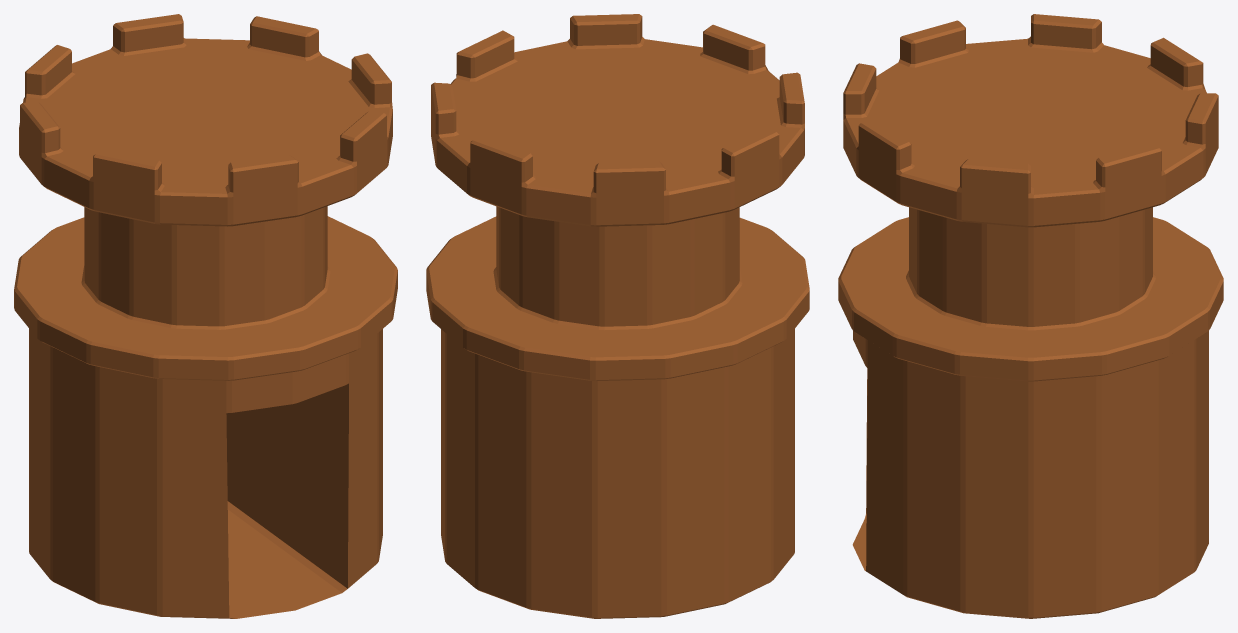
Rendered from castle.fbx.
3 renders of one model, left to right at view 1: azimuth 30°, elevation 25°; view 2: azimuth 150°, elevation 25°; view 3: azimuth 270°, elevation 25°, orthographic.
Parts seen in each view (by area): view 1: castle; view 2: castle; view 3: castle.
Part boxes in pixels (bbox=[...]): castle: bbox=[14, 14, 397, 618]; castle: bbox=[426, 14, 809, 618]; castle: bbox=[838, 14, 1223, 618].
Bounding box in the file's own units: 199 × 258 × 199.
